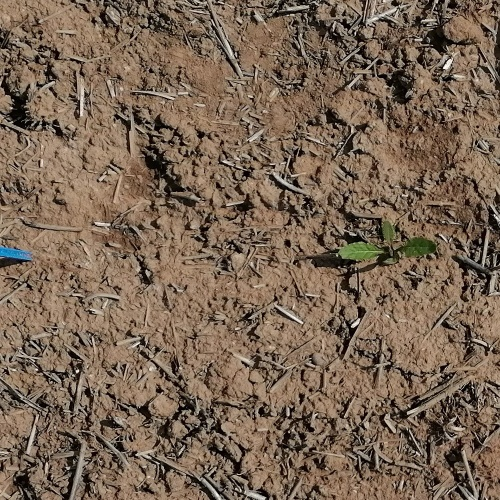beet: (338, 224, 437, 268)
